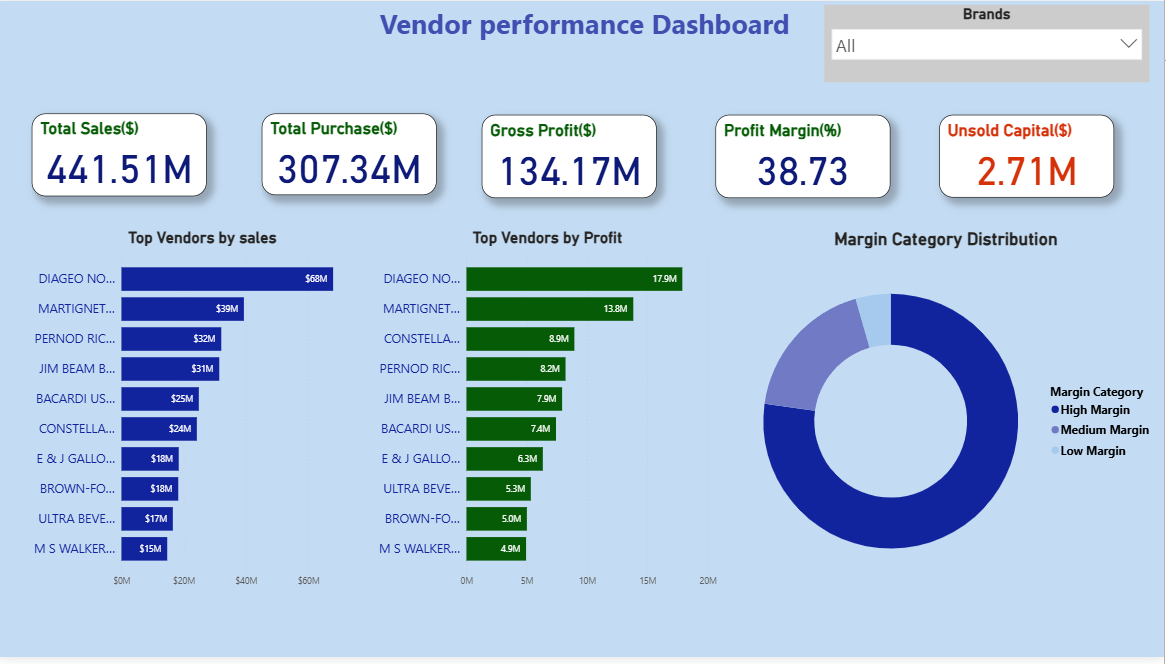

Layout of this report page (visuals, bound fields, positions):
{"tool":"powerbi","page":{"name":"Page 1","canvas":[1600,900],"ordinal":0},"visuals":[{"type":"textbox","box":[482,0,646.7,82.3],"z":0},{"type":"card","title":"Total Sales($)","fields":{"Values":["Sum(vendor_sales_summary.TotalSalesDollars)"]},"box":[46.9,154.3,240.1,113.2],"z":1},{"type":"card","title":"Total Purchase($)","fields":{"Values":["Sum(vendor_sales_summary.TotalPurchaseDollars)"]},"box":[362,154,240,112],"z":2},{"type":"card","title":"Gross Profit($)","fields":{"Values":["Sum(vendor_sales_summary.Gross Profit)"]},"box":[664,156,240,114],"z":3},{"type":"card","title":"Profit Margin(%)","fields":{"Values":["Avg(vendor_sales_summary.Profit Margin)"]},"box":[984,156,240,114],"z":4},{"type":"card","title":"Unsold Capital($)","fields":{"Values":["Sum(vendor_sales_summary.UnsoldInventoryValue)"]},"box":[1291.1,156,240.1,113.2],"z":5},{"type":"barChart","title":"Top Vendors by sales","fields":{"Category":["vendor_sales_summary.VendorName"],"Y":["Sum(vendor_sales_summary.TotalSalesDollars)"]},"box":[32,312,496,502],"z":6},{"type":"barChart","title":"Top Vendors by Profit","fields":{"Category":["vendor_sales_summary.VendorName"],"Y":["Sum(vendor_sales_summary.Gross Profit)"]},"box":[506,312,496,502],"z":7},{"type":"donutChart","title":"Margin Category Distribution","fields":{"Category":["vendor_sales_summary.Margin Category"],"Y":["CountNonNull(vendor_sales_summary.VendorName)"]},"box":[1002,312,598,502],"z":8},{"type":"slicer","title":"Brands","fields":{"Values":["vendor_sales_summary.Description"]},"box":[1134,6,446,106],"z":9}]}

Visuals, with their boxes in screenshot pixels (x1, y1, x2, y2), scaled from the page's 1600x900 canvas onto the 1166x664 screenshot:
textbox: 351:0:823:61
"Total Sales($)" card: 34:114:209:197
"Total Purchase($)" card: 264:114:439:196
"Gross Profit($)" card: 484:115:659:199
"Profit Margin(%)" card: 717:115:892:199
"Unsold Capital($)" card: 941:115:1116:199
"Top Vendors by sales" barChart: 23:230:385:601
"Top Vendors by Profit" barChart: 369:230:730:601
"Margin Category Distribution" donutChart: 730:230:1165:601
"Brands" slicer: 826:4:1151:83
